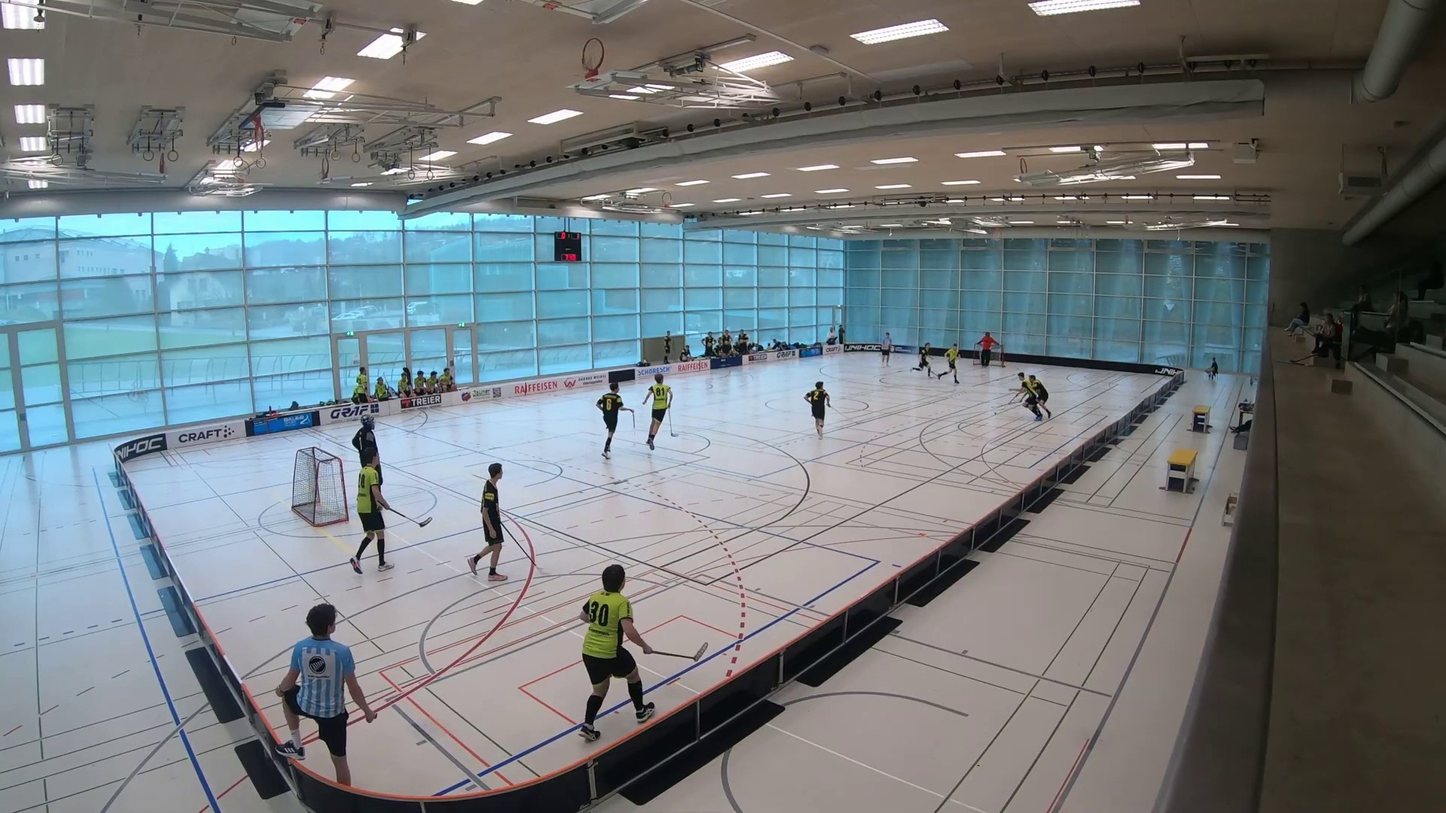Schiri: (256, 593, 372, 778), (878, 328, 894, 368)
ball: (993, 411, 998, 416)
goalkeeper: (351, 416, 378, 467), (975, 331, 1002, 366)
player: (579, 564, 654, 741), (350, 446, 393, 574), (467, 462, 507, 581), (596, 382, 632, 458), (645, 373, 672, 449), (805, 381, 831, 437), (1017, 373, 1042, 421), (1028, 375, 1051, 417), (936, 343, 959, 382), (914, 343, 931, 373)
